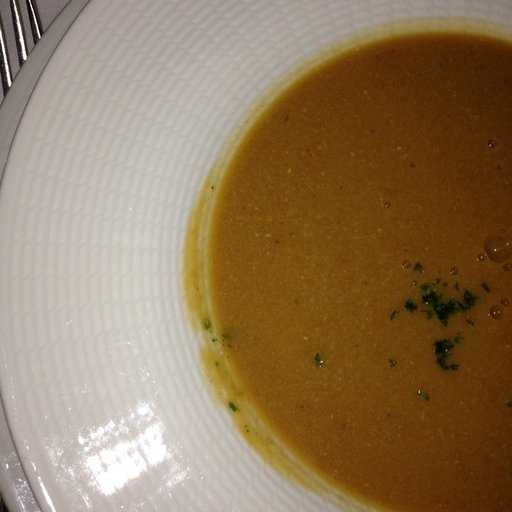soup: (190, 7, 512, 493)
